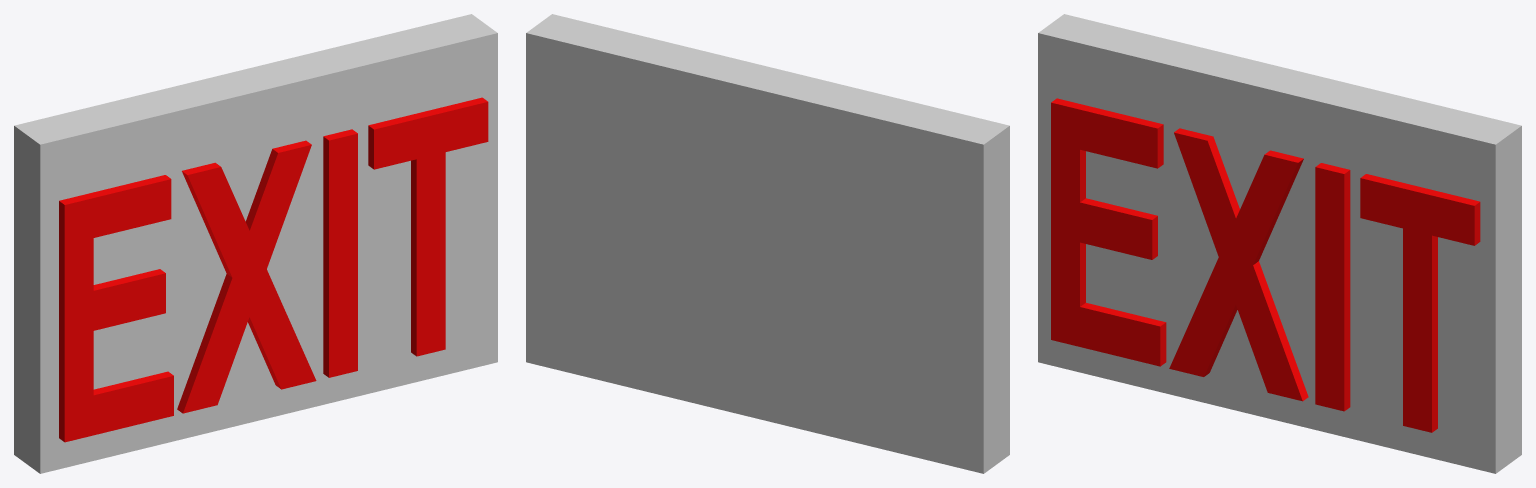
File: letrero exit.fbx
3 renders of one model, left to right at view 1: azimuth 30°, elevation 25°; view 2: azimuth 150°, elevation 25°; view 3: azimuth 330°, elevation 25°, orthographic.
Visible parts, largest first — view 1: Letreros de salida; view 2: Letreros de salida; view 3: Letreros de salida.
Boxes of the visible parts, x1,y1,x2,y2 form: Letreros de salida: (14,14,497,473); Letreros de salida: (526,14,1009,473); Letreros de salida: (1038,14,1521,473).
Bounding box in the file's own units: 60.89 × 41.86 × 7.35.
